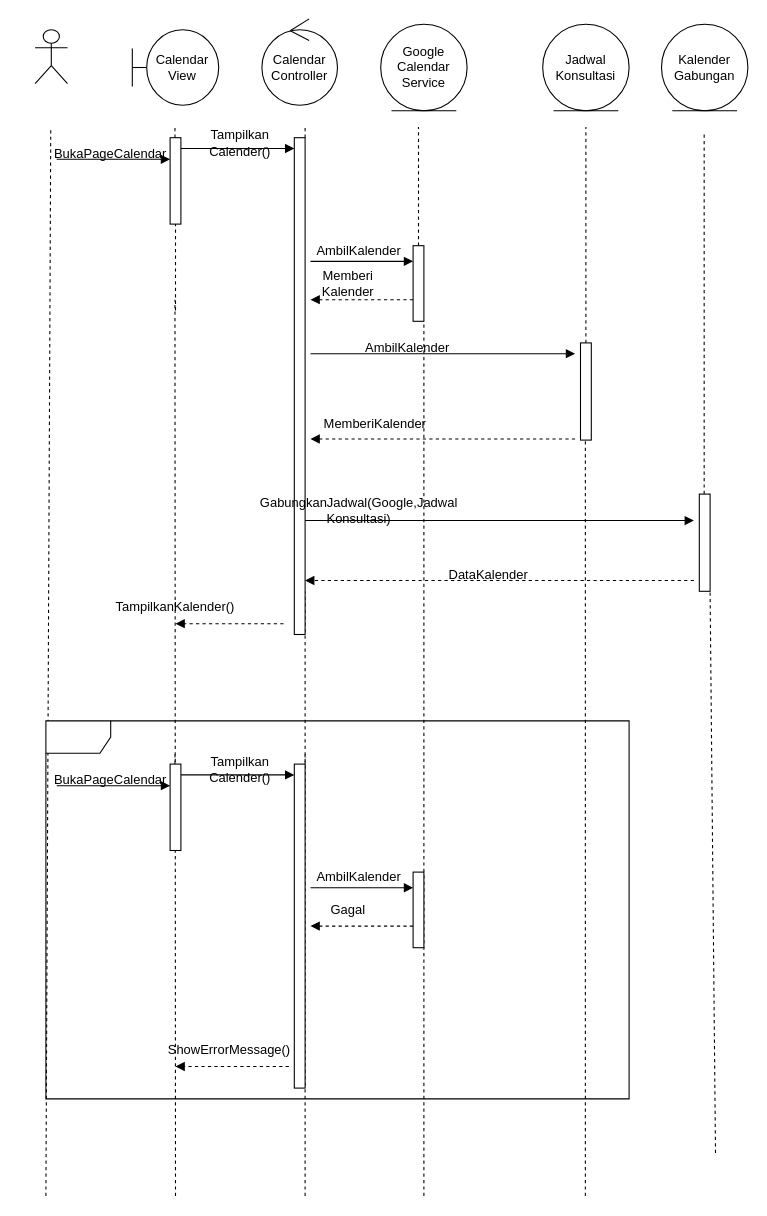
This 767x1216 diagram has some shape labels left out. The box of each missing label's shape, as (x1, y1, x2, y2) in pixels:
Alt: (45, 720, 629, 1099)
Mahasiswa: (34, 29, 68, 84)
